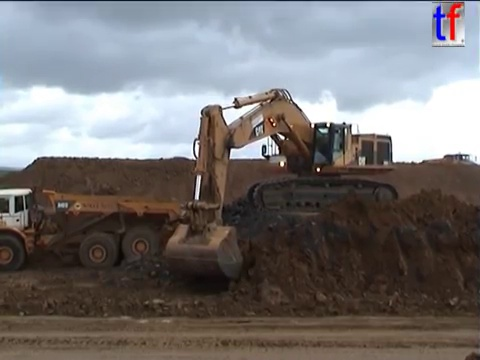excavator: (162, 86, 402, 287)
truck: (1, 185, 201, 274), (417, 151, 478, 178)
